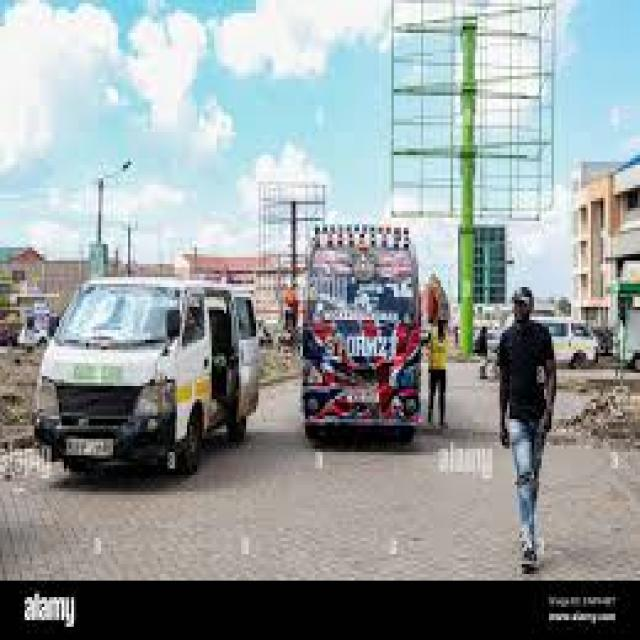bus: (302, 206, 436, 469)
matatu: (24, 253, 265, 485), (551, 309, 601, 375)
